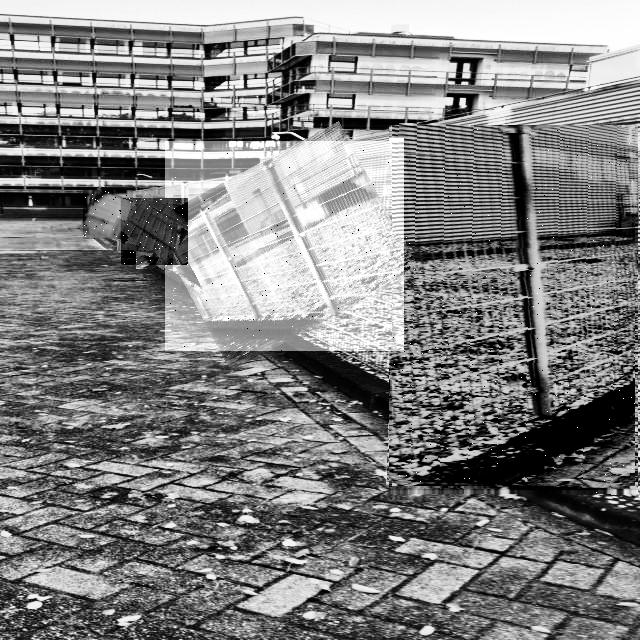fences: (389, 126, 638, 493), (165, 141, 404, 351), (121, 198, 188, 265), (83, 190, 133, 239)
